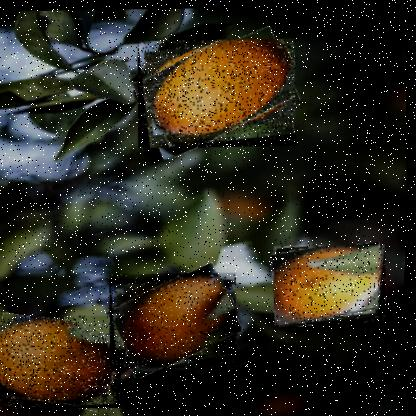orange: (133, 31, 300, 152), (107, 266, 243, 372), (0, 310, 128, 415), (271, 237, 391, 327)
